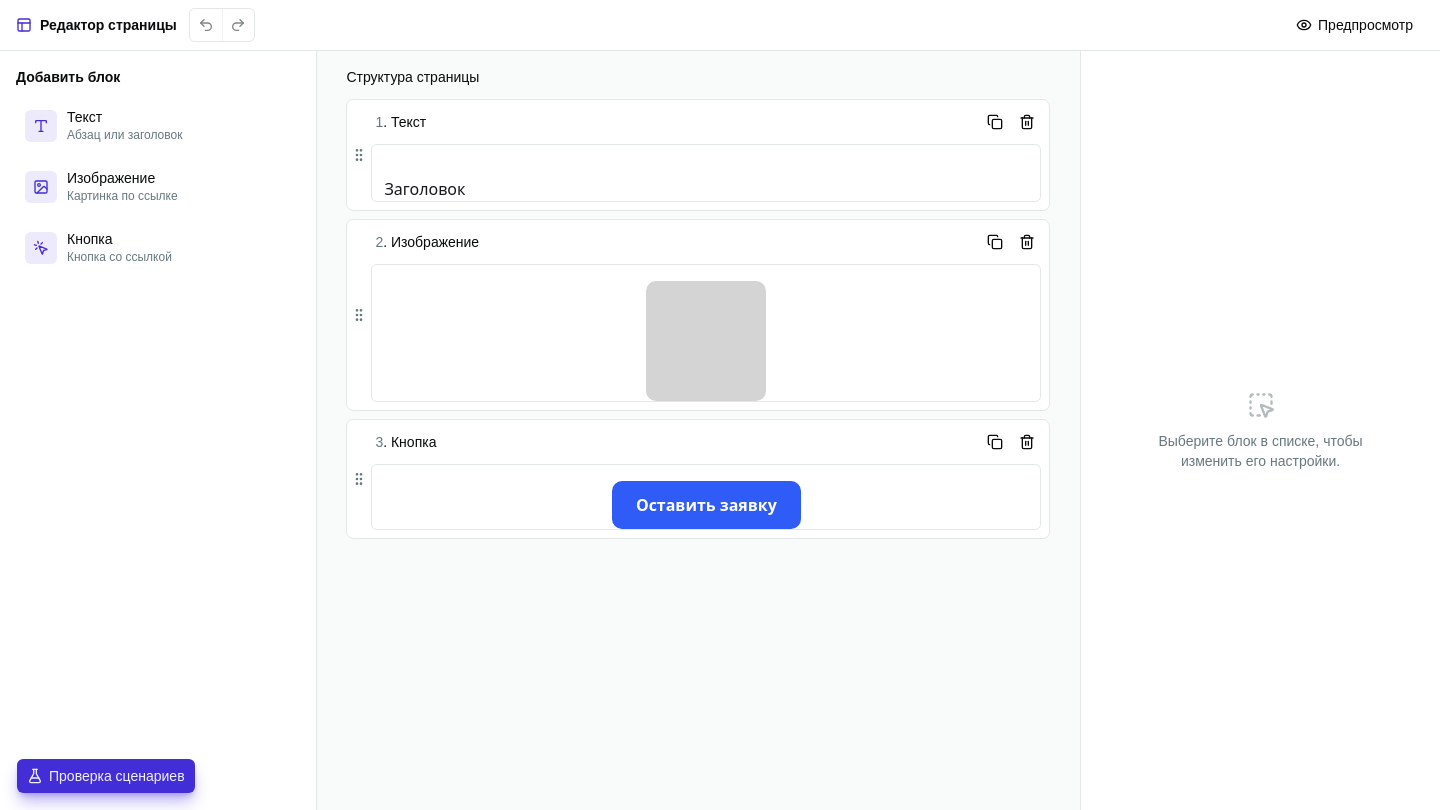
version conflict › replaces the document when the server version is accepted
Expected: the heading "Структура страницы" is shown, [346,69,479,85]
Click the button "1. Текст". click: (405, 122)
box: [371,110,977,134]
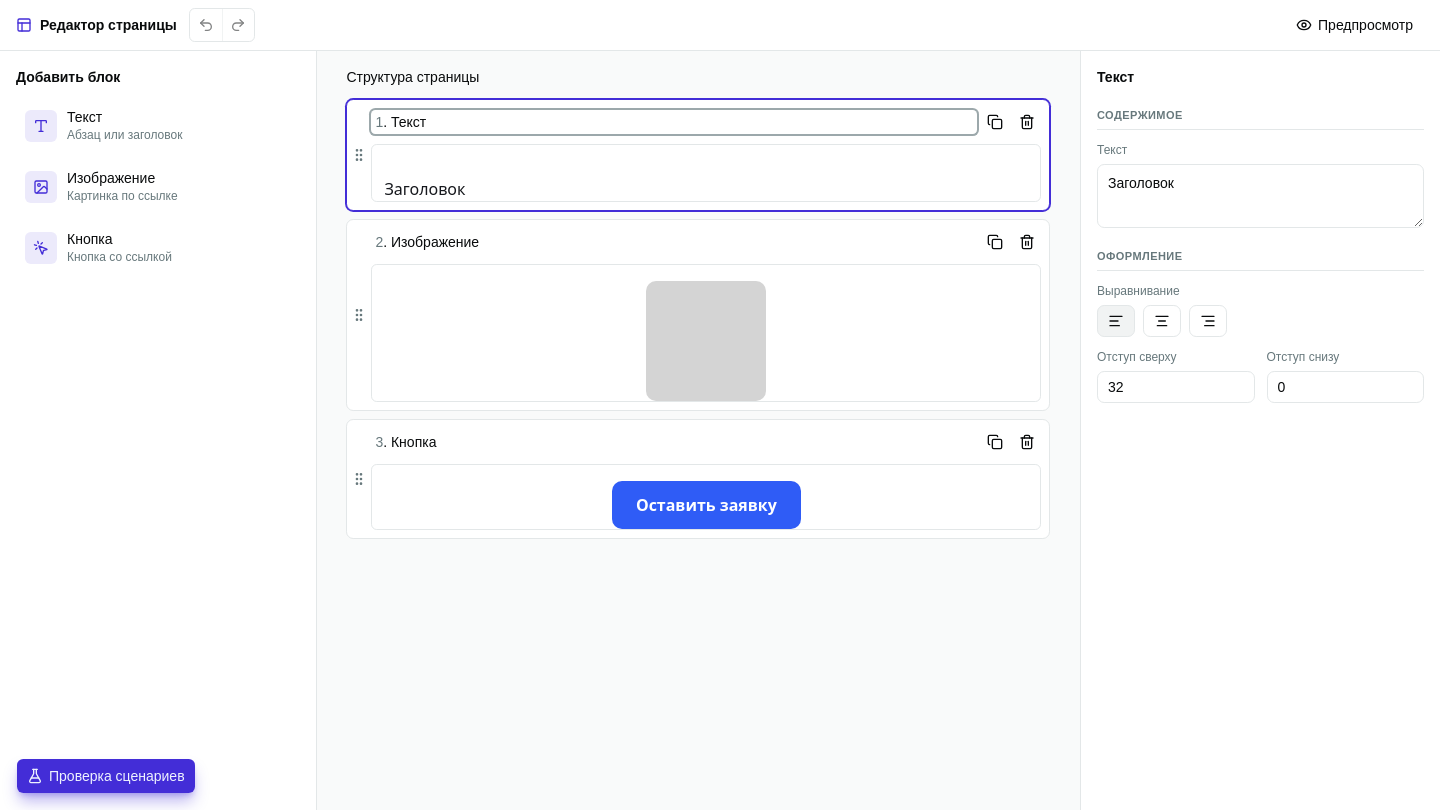
Replace the text in the text box labelled "Текст" with "Мой текст". click: (1260, 196)
box: [1097,164,1424,228]
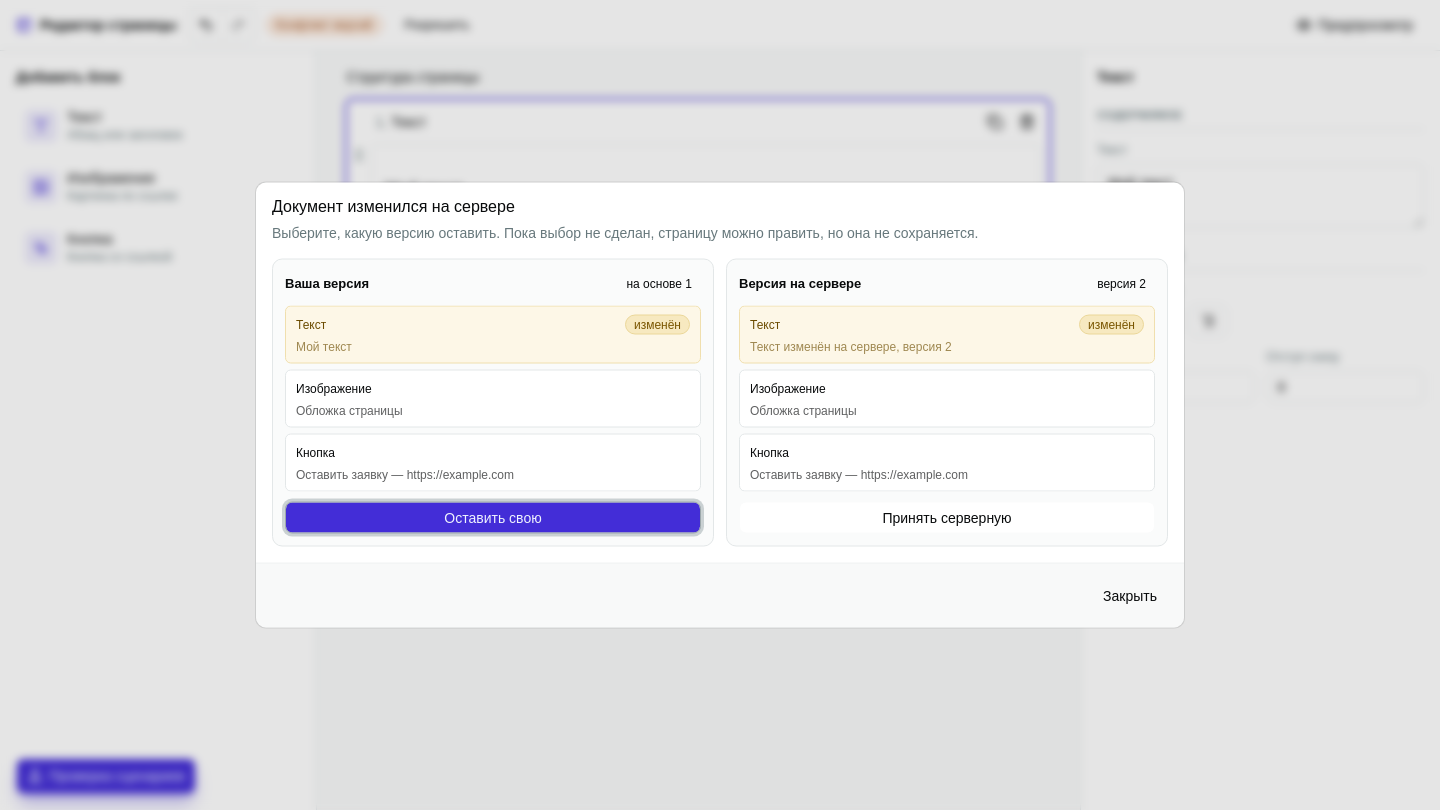
Expected: the dialog is shown, [256,182,1184,628]
Click the button "Принять серверную". click: (947, 518)
box: [739,502,1155,534]
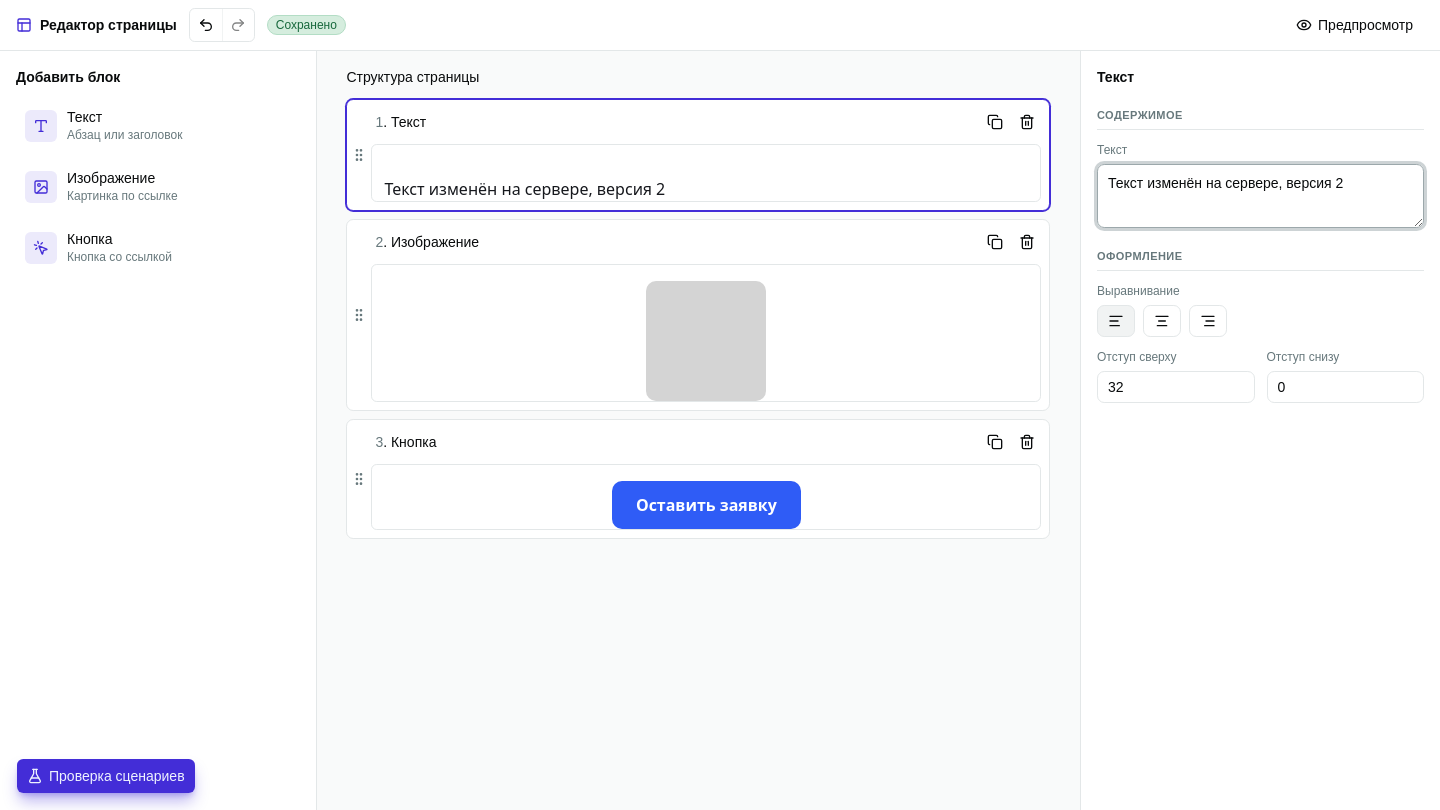
Expected: the text "Сохранено" is shown, [267,15,346,35]
